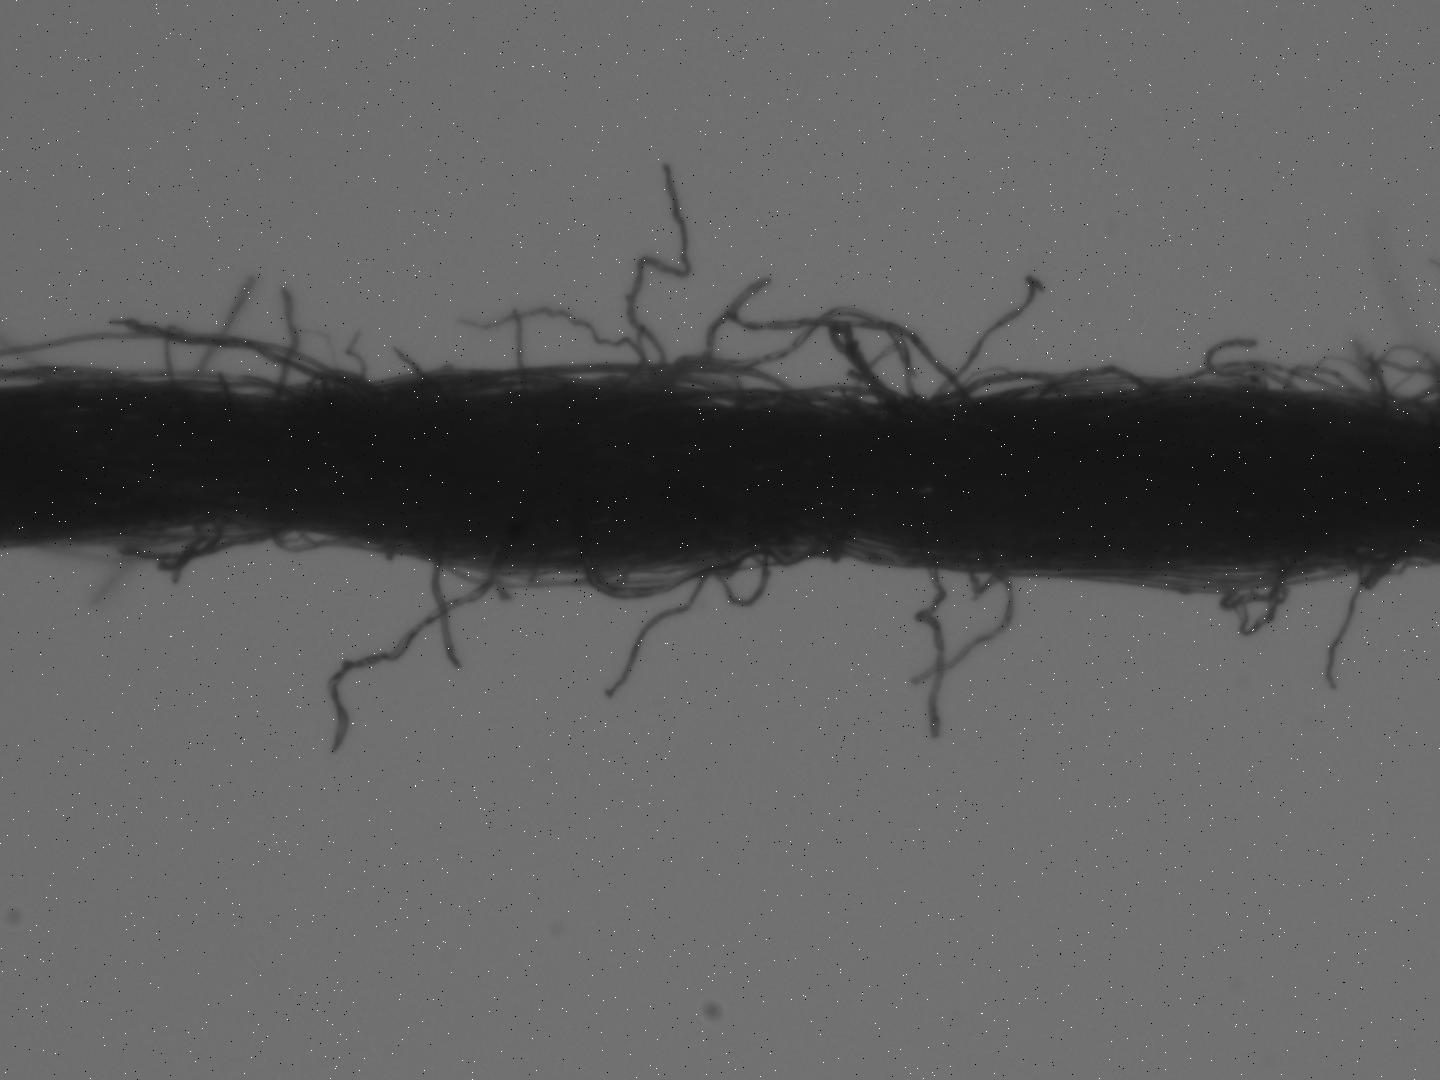loop_fiber: (661, 298, 985, 419), (566, 515, 837, 600), (1217, 554, 1302, 643), (1160, 360, 1357, 397), (1033, 361, 1172, 406), (934, 365, 1066, 403), (256, 526, 362, 556), (1284, 363, 1362, 396), (300, 370, 380, 400)
protruding_fiber: (324, 550, 510, 753), (1323, 554, 1389, 697)
